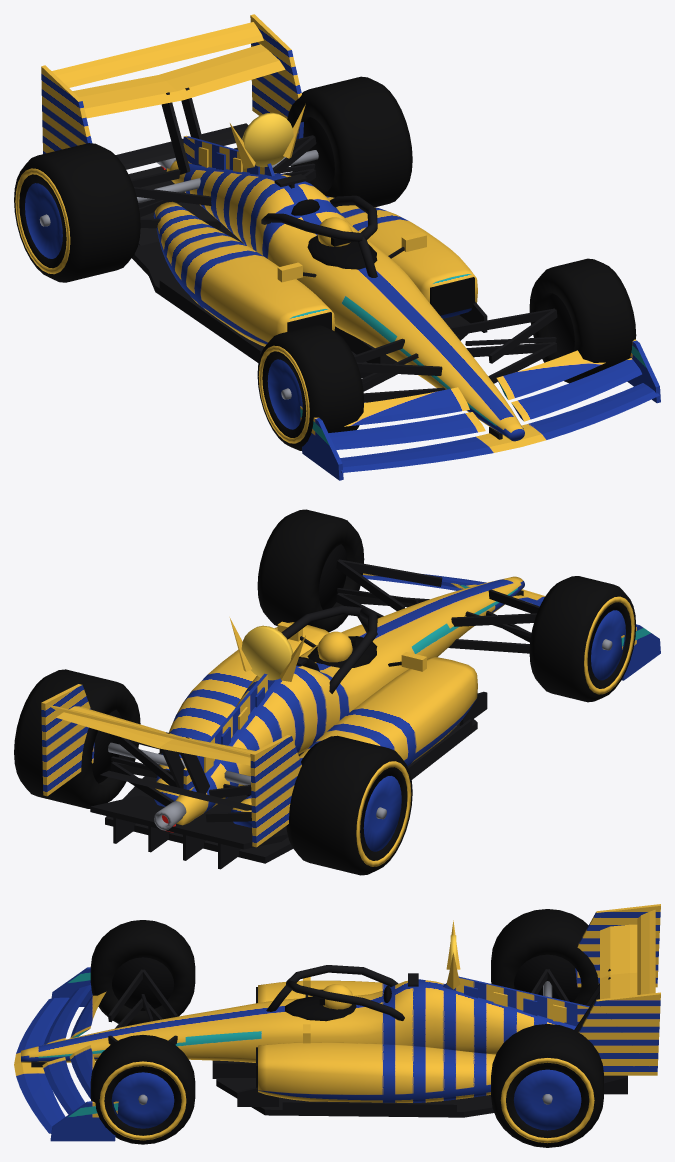
The model's file is dunes_b.fbx.
The picture shows the model from 3 angles, top to bottom: view 1: azimuth 30°, elevation 25°; view 2: azimuth 150°, elevation 25°; view 3: azimuth 270°, elevation 25°; orthographic projection. The views are drawn at different scales.
Visible parts, largest first — view 1: Body, Trim, Wheel_RL, Wheel_RR, Wheel_FL, Wheel_FR, Glow, Acc; view 2: Body, Trim, Wheel_RL, Wheel_FL, Wheel_FR, Wheel_RR, Glow, Acc; view 3: Body, Trim, Wheel_RR, Wheel_FR, Wheel_FL, Wheel_RL, Acc.
Boxes of the visible parts, x1,y1,x2,y2 form: Body: (41,14,660,480); Trim: (115,87,557,439); Wheel_RL: (14,143,140,282); Wheel_RR: (287,76,412,207); Wheel_FL: (257,325,364,450); Wheel_FR: (529,258,636,383); Glow: (161,112,293,169); Acc: (198,104,305,174); Body: (41,573,660,847); Trim: (90,559,539,869); Wheel_RL: (286,735,412,875); Wheel_FL: (529,576,636,702); Wheel_FR: (257,509,364,632); Wheel_RR: (14,669,140,808); Glow: (162,625,292,832); Acc: (204,617,305,772); Body: (14,904,660,1141); Trim: (31,965,627,1117); Wheel_RR: (491,1024,603,1147); Wheel_FR: (90,1035,195,1144); Wheel_FL: (90,920,195,1026); Wheel_RL: (491,909,598,1004); Acc: (446,920,566,1022).
Size of the model in its own units: 9.81 by 4.55 by 18.55.
4 materials, 1 textured.
